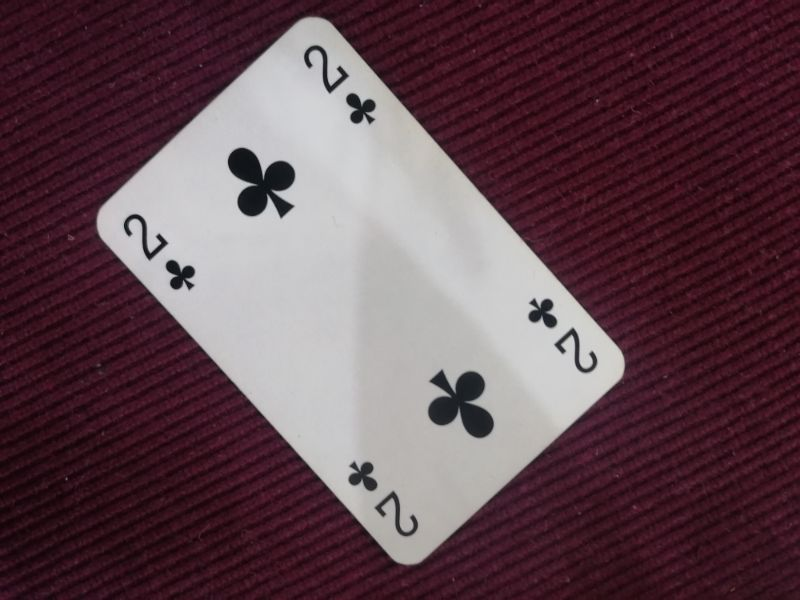2c: (521, 294, 603, 377), (301, 42, 378, 129), (121, 211, 200, 293), (345, 456, 423, 539)
